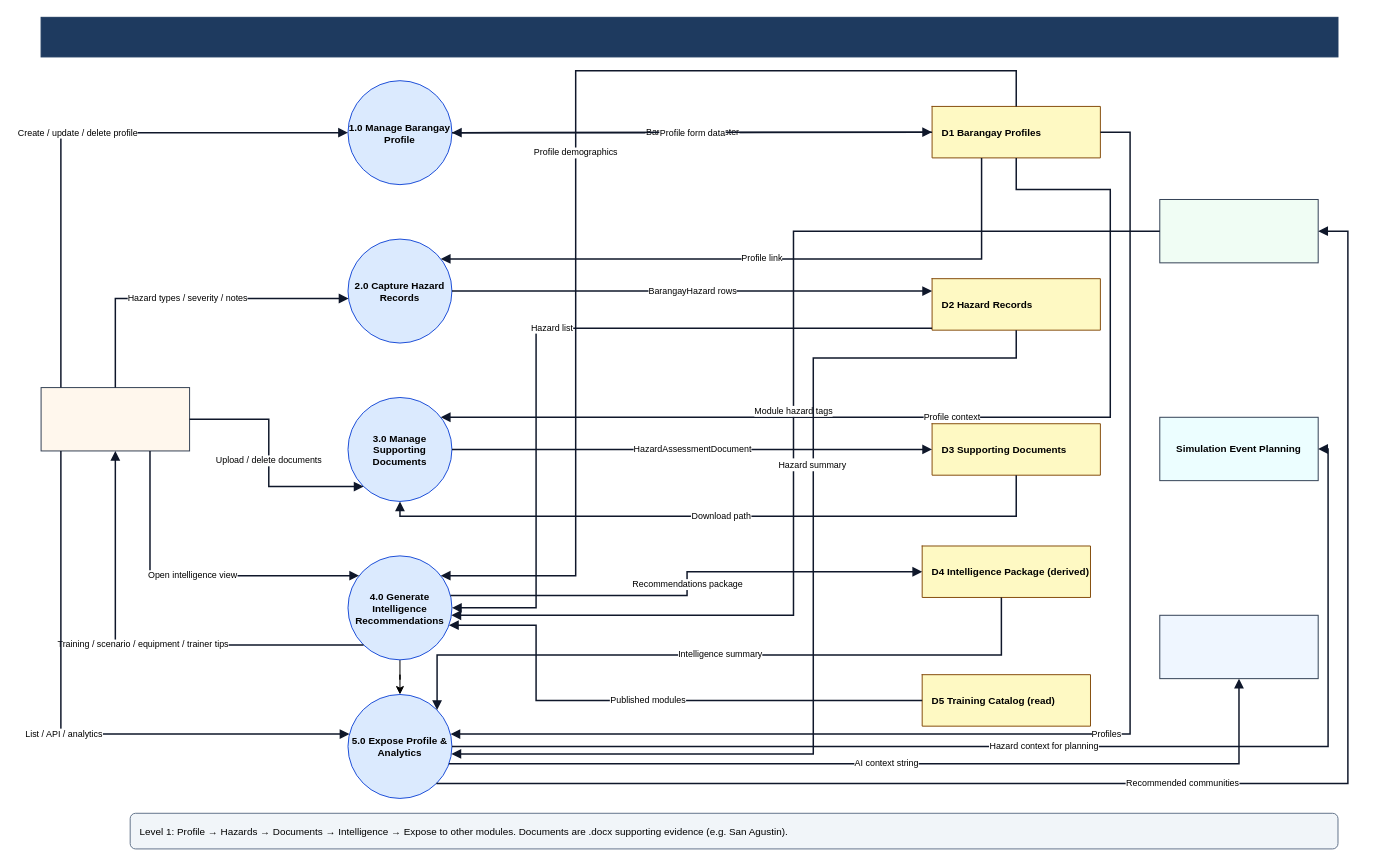
The diagram is 1373 pixels wide and 866 high, and some of its shapes have lost their labels. The shapes that lost their labels are listed below. From the top down, each one's box as (x1, y1, x2, y2) in pixels, then its label:
(40, 16, 1338, 57): DFD Level 1 — Hazard Assessment Profile (Decomposition)
(1159, 198, 1318, 263): Training Module
(40, 387, 190, 451): Lead Trainer / Admin
(1159, 614, 1318, 679): AI Scenario Training
